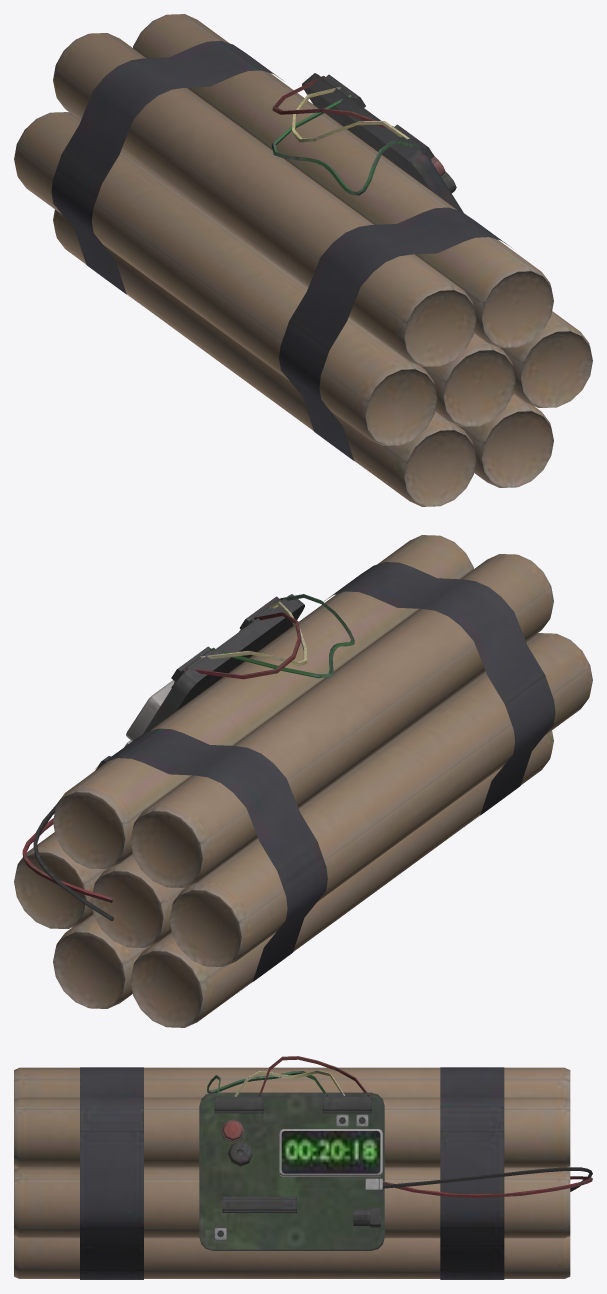
The picture shows the model from 3 angles, top to bottom: view 1: azimuth 30°, elevation 25°; view 2: azimuth 150°, elevation 25°; view 3: azimuth 270°, elevation 25°; orthographic projection. The views are drawn at different scales.
Parts seen in each view (by area): view 1: C4; view 2: C4; view 3: C4.
Part boxes in pixels (left/top/right/bottom): C4: left=14, top=14, right=592, bottom=506; C4: left=14, top=535, right=592, bottom=1027; C4: left=14, top=1056, right=592, bottom=1279.
Size of the model in its own units: 0.2149 by 0.199 by 0.5.
Materials: 1 (1 with a texture image).
